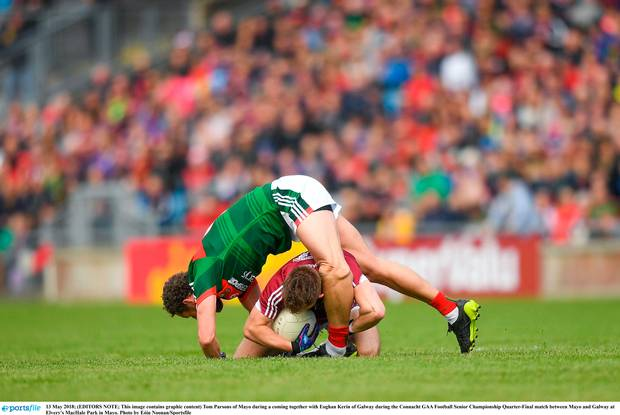player: (159, 173, 475, 353), (248, 251, 377, 361)
